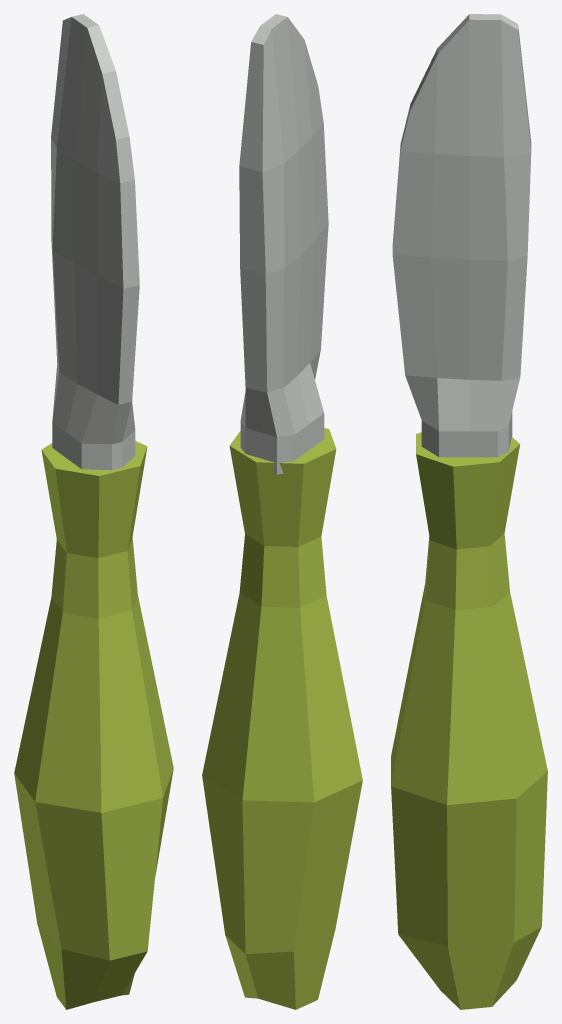
Rendered from knife-green.fbx.
3 renders of one model, left to right at view 1: azimuth 30°, elevation 25°; view 2: azimuth 150°, elevation 25°; view 3: azimuth 270°, elevation 25°, orthographic.
Parts seen in each view (by area): view 1: knife.001; view 2: knife.001; view 3: knife.001.
Part boxes in pixels (<box>): knife.001: <box>14,14,173,1009</box>; knife.001: <box>202,14,362,1009</box>; knife.001: <box>391,14,547,1009</box>.
Size of the model in its own units: 142 by 950 by 138.
